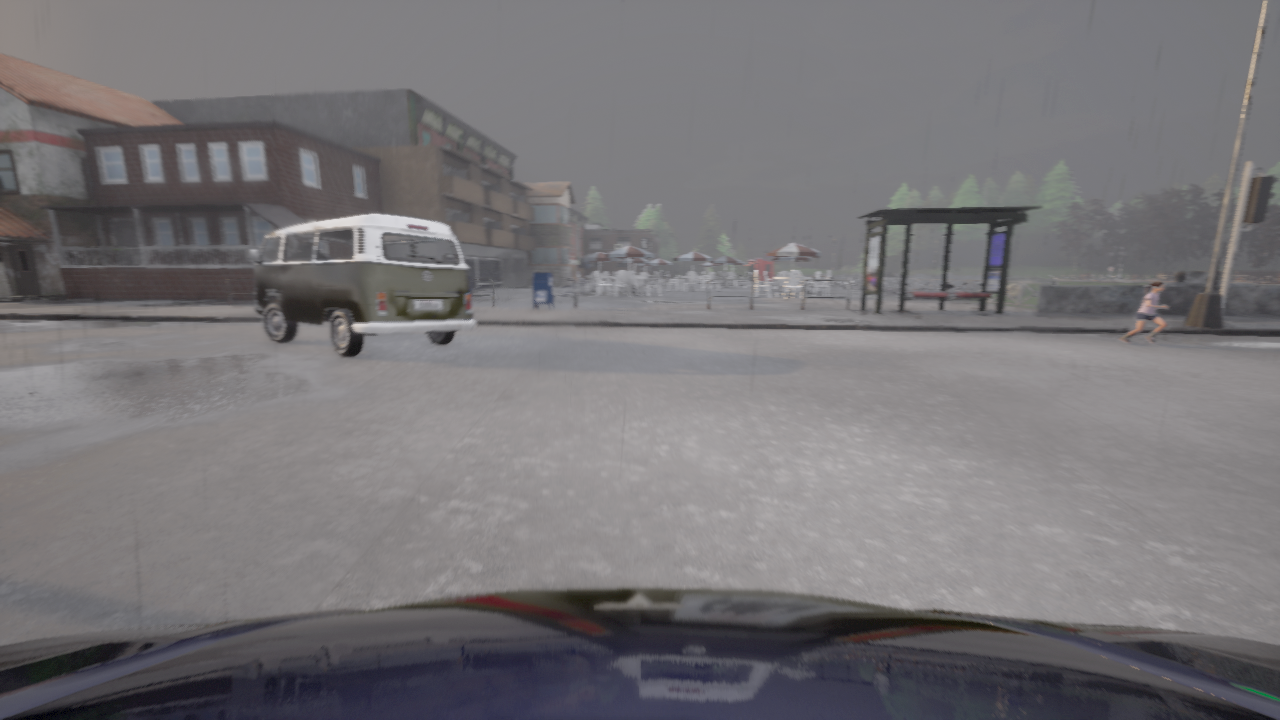cyclist: (0, 588, 1279, 719), (248, 213, 475, 357)
pedestrian: (1119, 281, 1168, 343)
